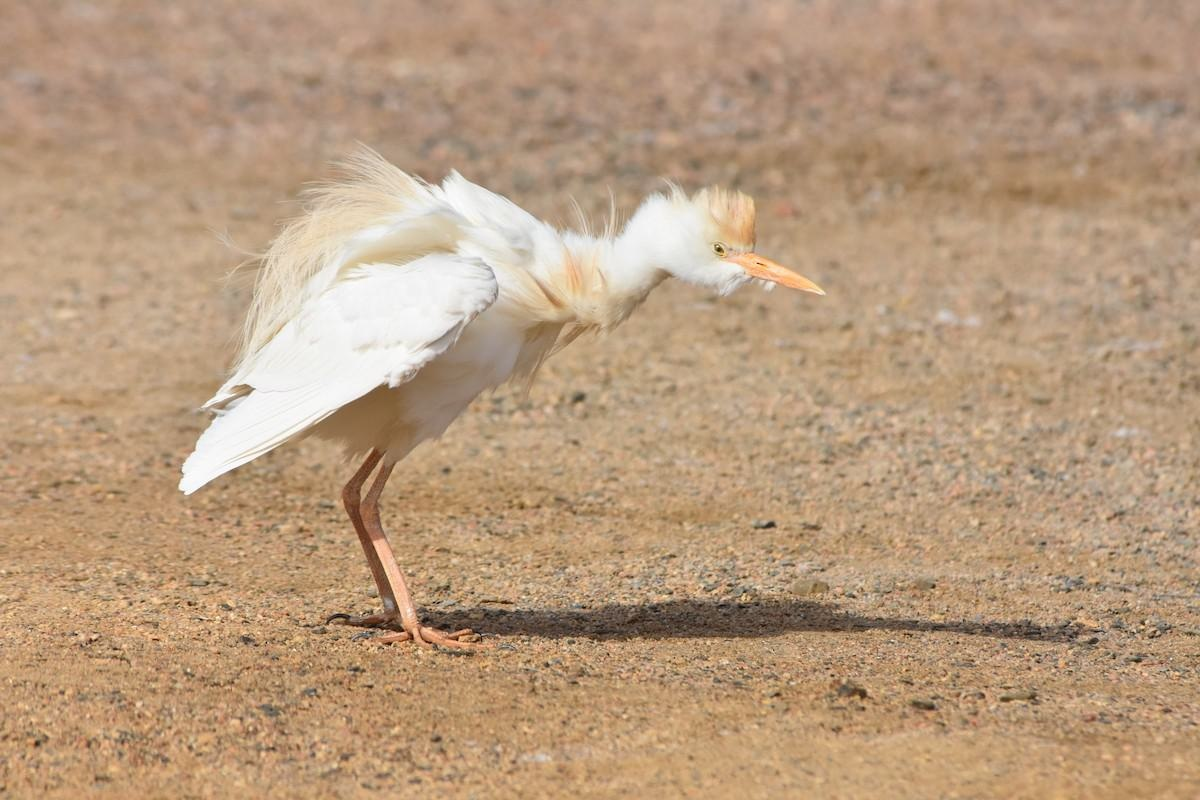egret: (191, 113, 864, 673)
